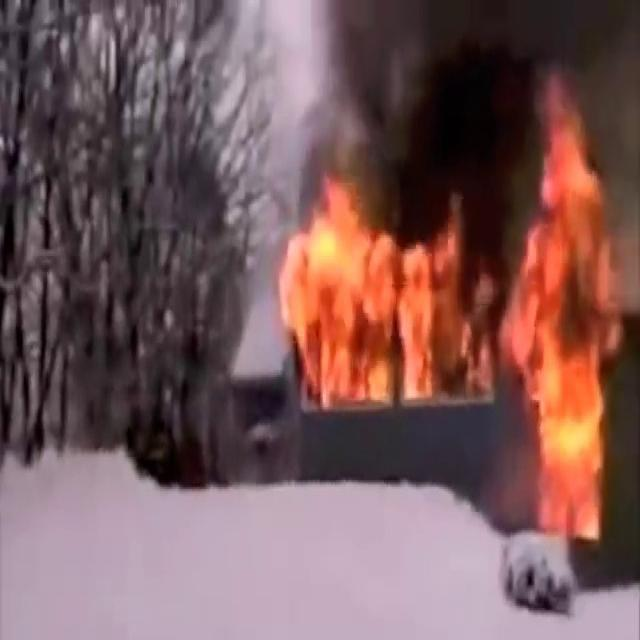Fire: (271, 101, 634, 544)
Smoke: (266, 0, 640, 229)
